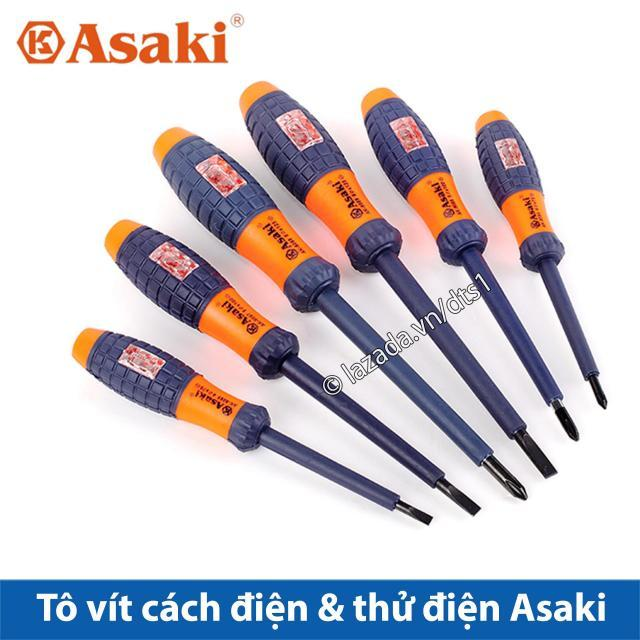screwdriver: (146, 122, 530, 506), (232, 73, 564, 490), (99, 218, 487, 535), (358, 78, 582, 448), (67, 326, 440, 528), (471, 101, 614, 417)
